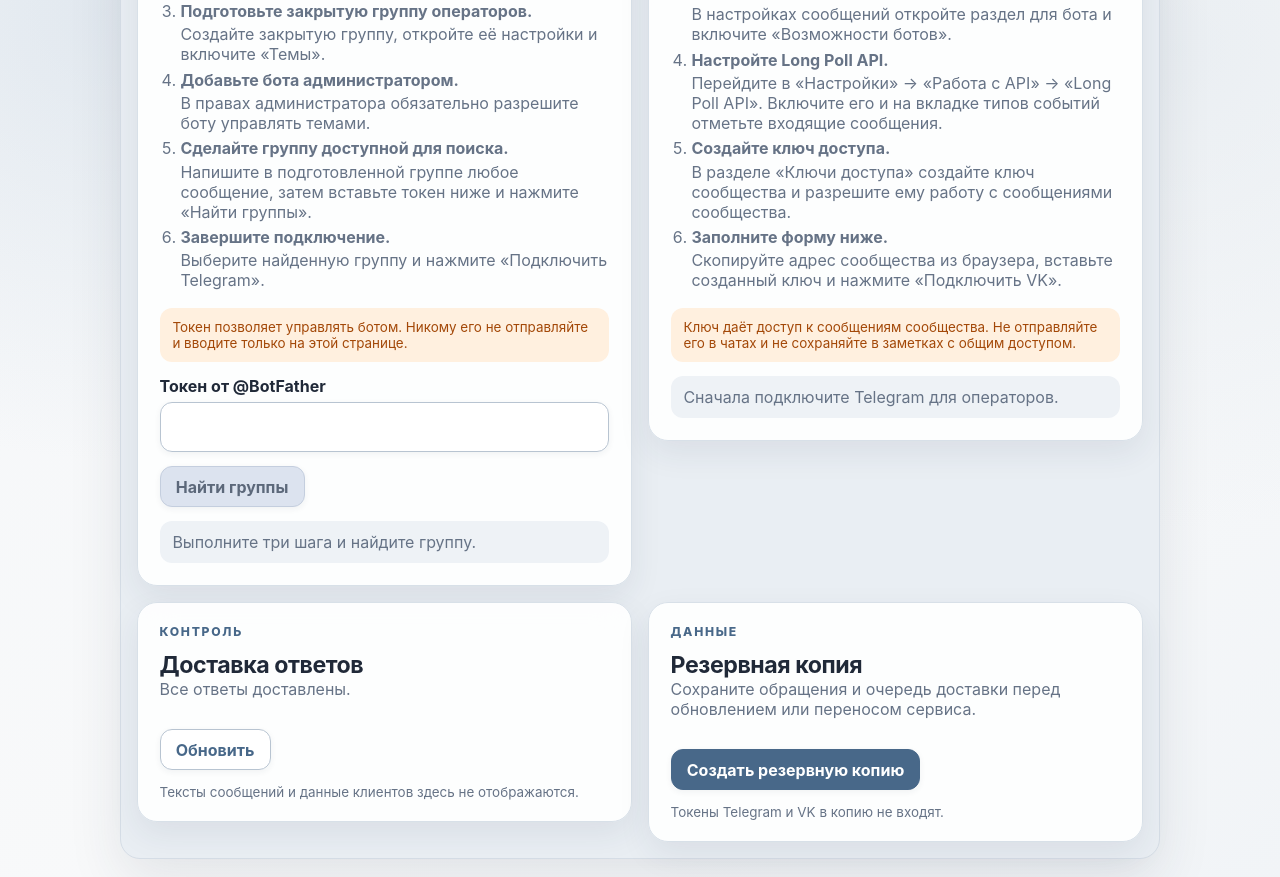
Test: SetupPage › discovers Telegram groups without exposing the token in the page
(page scrolled)
Type "123456789:synthetic-telegram-token" into the password field with id "telegram-token" at (384, 427), box left=160, top=402, right=609, bottom=452
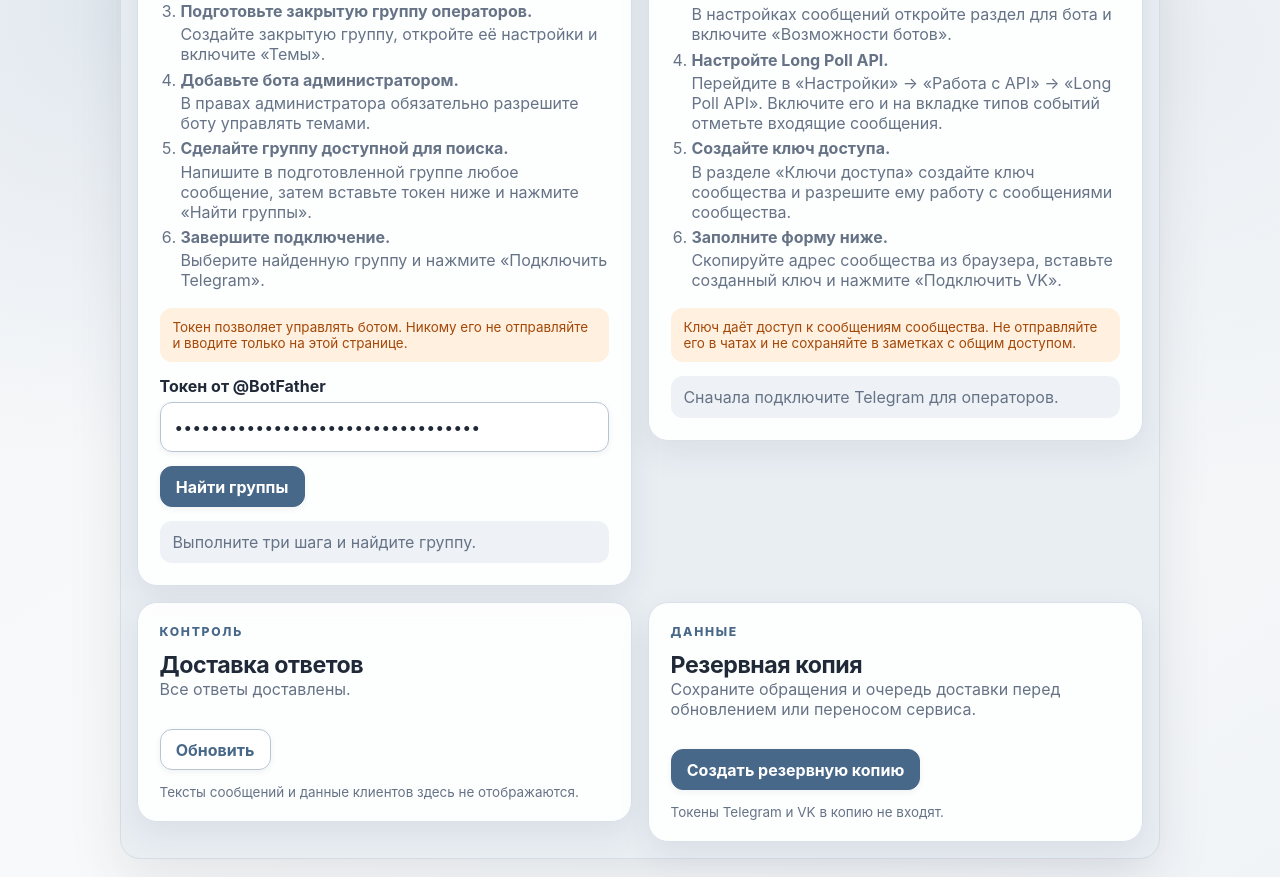
Click the button "Найти группы" at (232, 486), box left=160, top=466, right=304, bottom=507
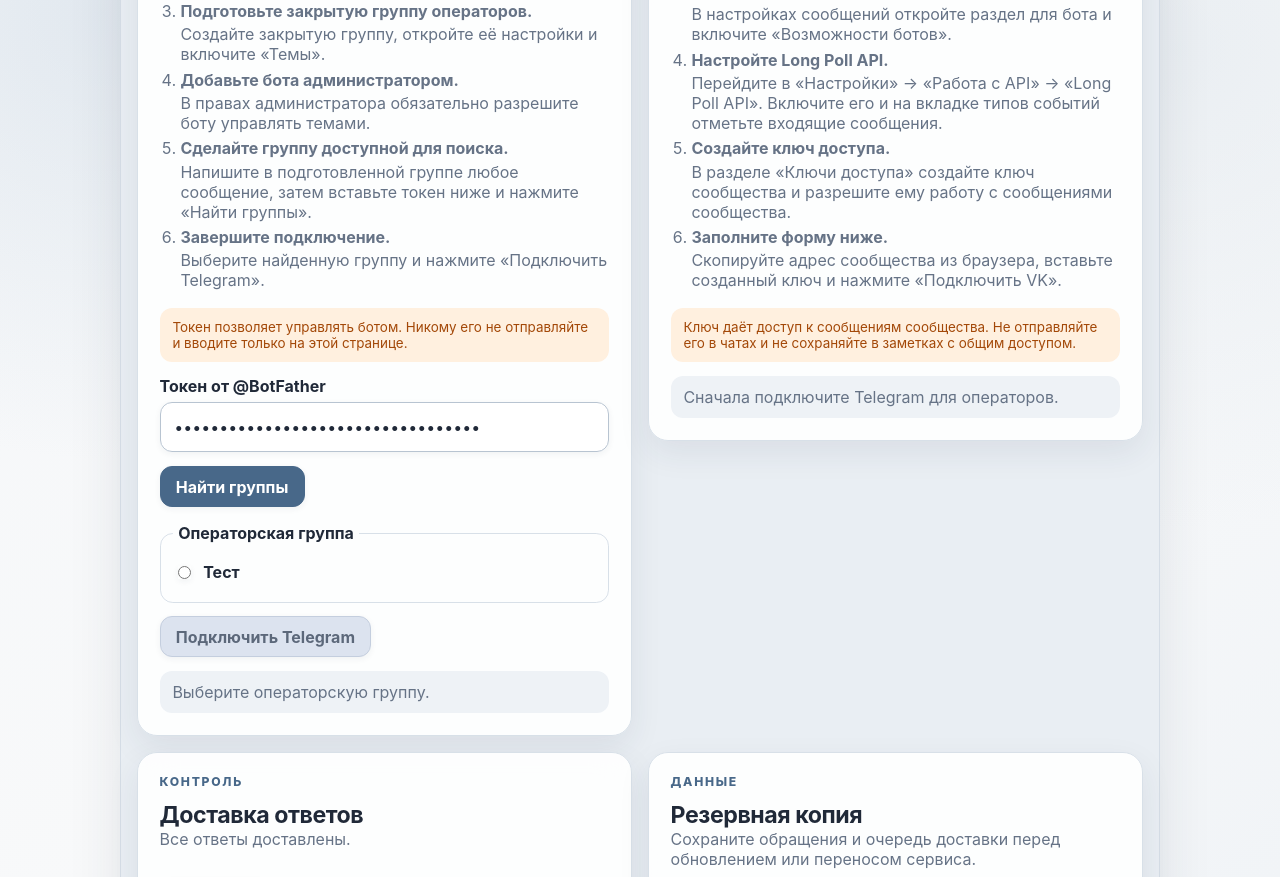
expect the text "Тест" is shown: met, box left=203, top=562, right=240, bottom=582
